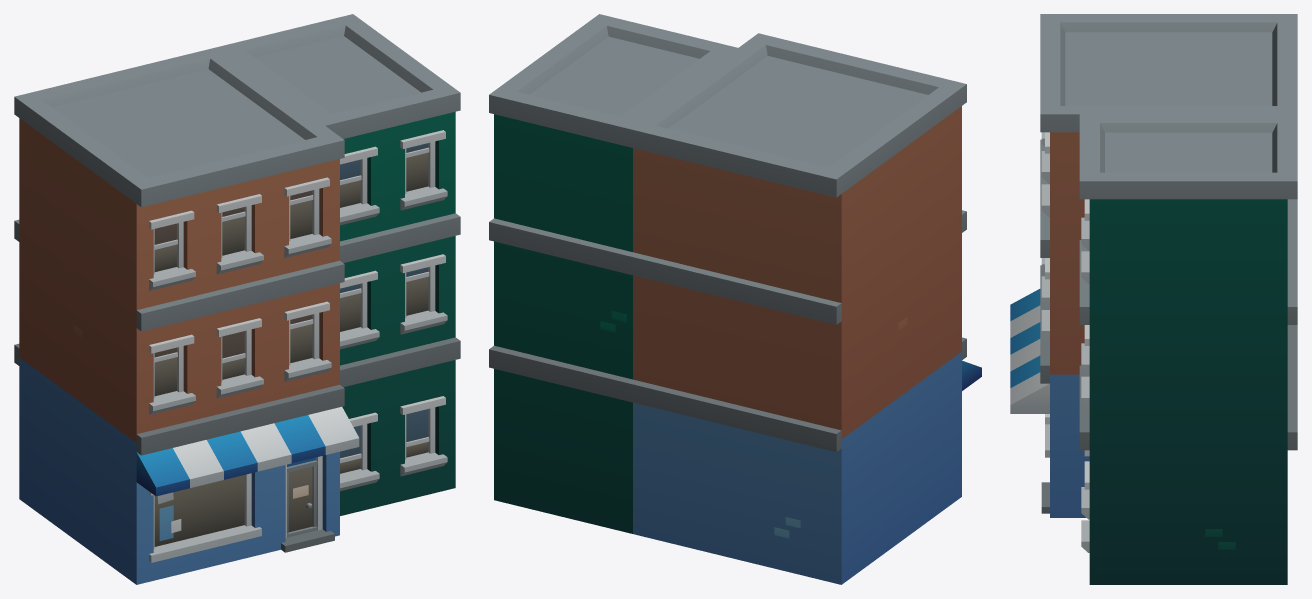
The model's file is city-building-g.glb.
3 views of the same model, side by side, from view 1: azimuth 30°, elevation 25°; view 2: azimuth 150°, elevation 25°; view 3: azimuth 270°, elevation 25° (orthographic). The views are drawn at different scales.
Visible parts, largest first — view 1: building_G_withoutBase; view 2: building_G_withoutBase; view 3: building_G_withoutBase.
Boxes of the visible parts, x1,y1,x2,y2 form: building_G_withoutBase: (14, 14, 460, 584); building_G_withoutBase: (489, 14, 981, 584); building_G_withoutBase: (1010, 14, 1297, 584).
Bounding box in the file's own units: 2.01 × 2.25 × 1.45.
